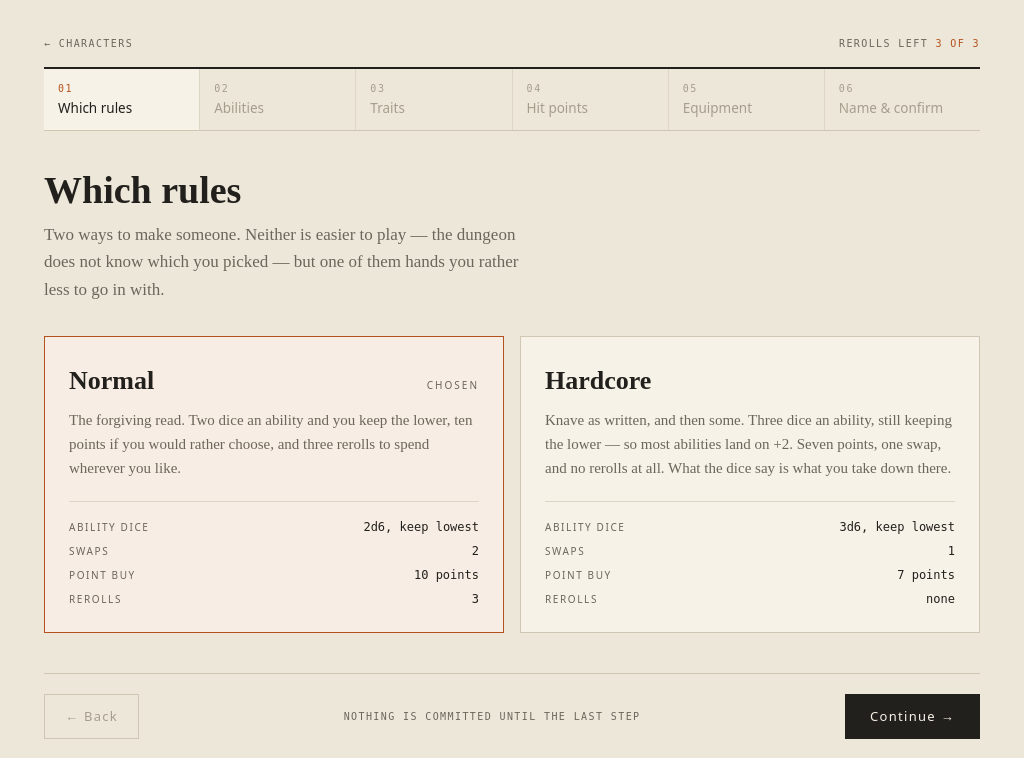
Test: hit points › rolls two dice floored at nine for a normal character
Click the button "04 Hit points".
click(591, 100)  # box [512, 69, 669, 130]
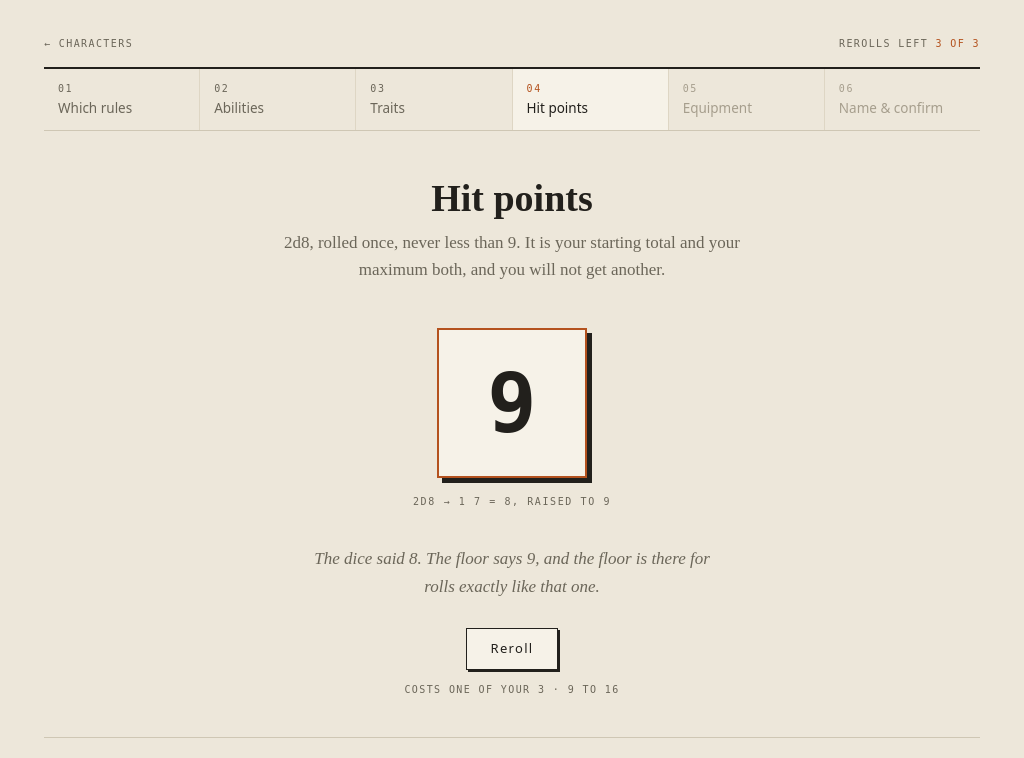
Expected: the text "2d8, rolled once, never less than 9" is shown, [280, 229, 744, 284]
